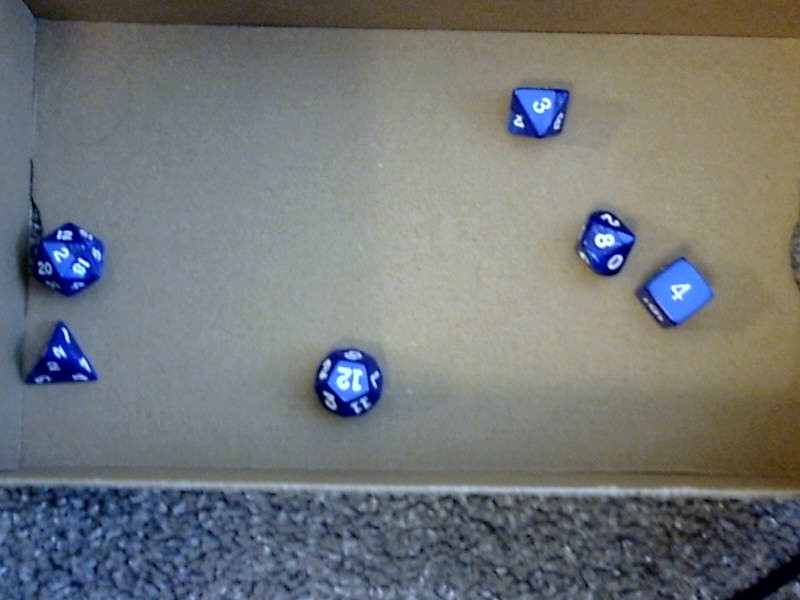d10 8: (571, 203, 637, 281)
d12 12: (309, 342, 385, 423)
d20 2: (28, 222, 116, 297)
d4 2: (21, 322, 105, 389)
d6 4: (638, 254, 713, 329)
d8 3: (505, 82, 570, 144)
